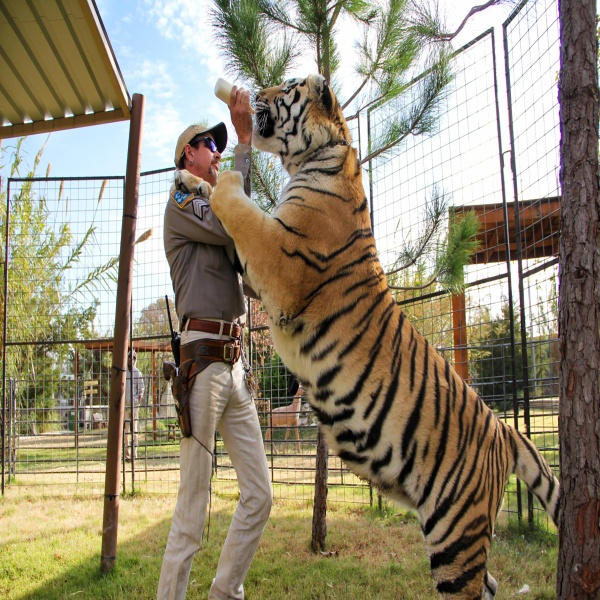Tiger: (209, 72, 565, 600)
